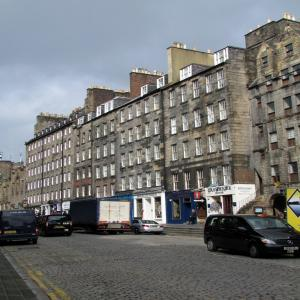Vehicle-registration-plate: (284, 246, 299, 251)
